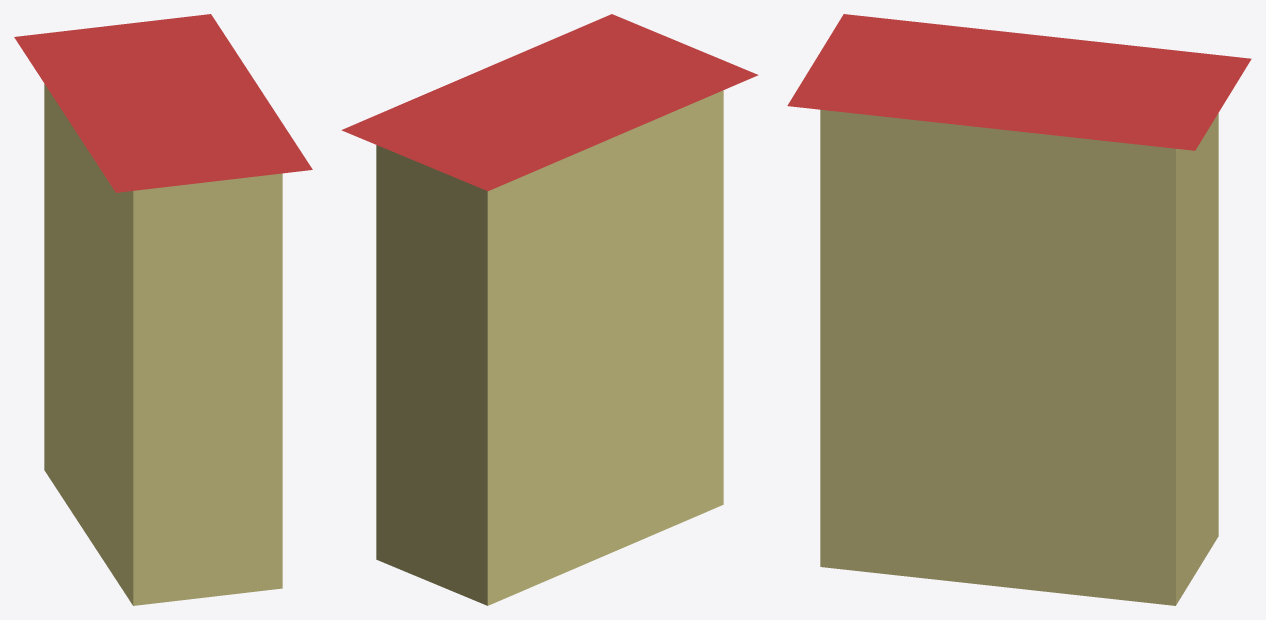
3 views of the same model, side by side, from view 1: azimuth 30°, elevation 25°; view 2: azimuth 150°, elevation 25°; view 3: azimuth 270°, elevation 25° (orthographic). The views are drawn at different scales.
Parts seen in each view (by area): view 1: group_5, group_3, group_4; view 2: group_5, group_3, group_4; view 3: group_5, group_3, group_4.
Part boxes in pixels (box(x1,y1,x2,y2)): group_5: box(44, 84, 282, 605); group_3: box(14, 14, 312, 192); group_4: box(15, 14, 311, 192); group_5: box(376, 90, 723, 605); group_3: box(342, 14, 758, 190); group_4: box(342, 15, 756, 190); group_5: box(820, 109, 1218, 605); group_3: box(787, 14, 1251, 150); group_4: box(787, 14, 1250, 150).
Bounding box in the file's own units: 5.96 × 8.55 × 9.52.
